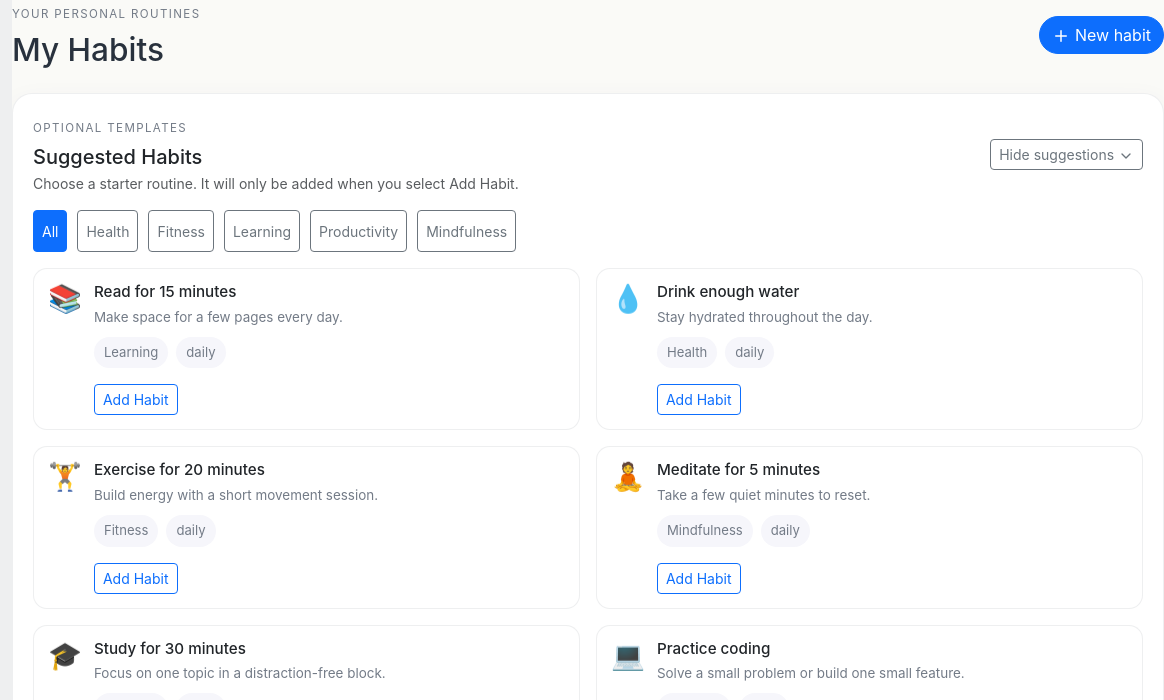
Test: HabitsPage suggested templates › adds a suggested habit only after the user clicks Add Habit
Click the button "Add Habit" below "Make space for a few pages every day.". click: click(136, 400)
box: x1=94 y1=384 x2=178 y2=416
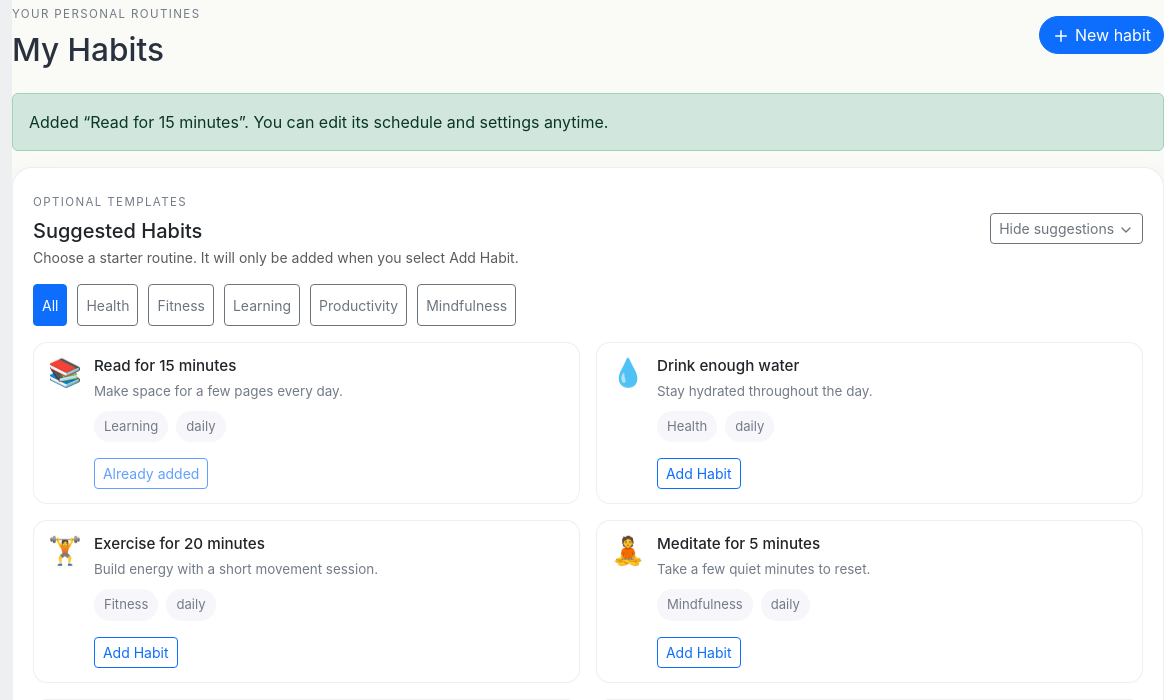
expect the button "Already added" is disabled: met, box x1=94 y1=458 x2=208 y2=490
